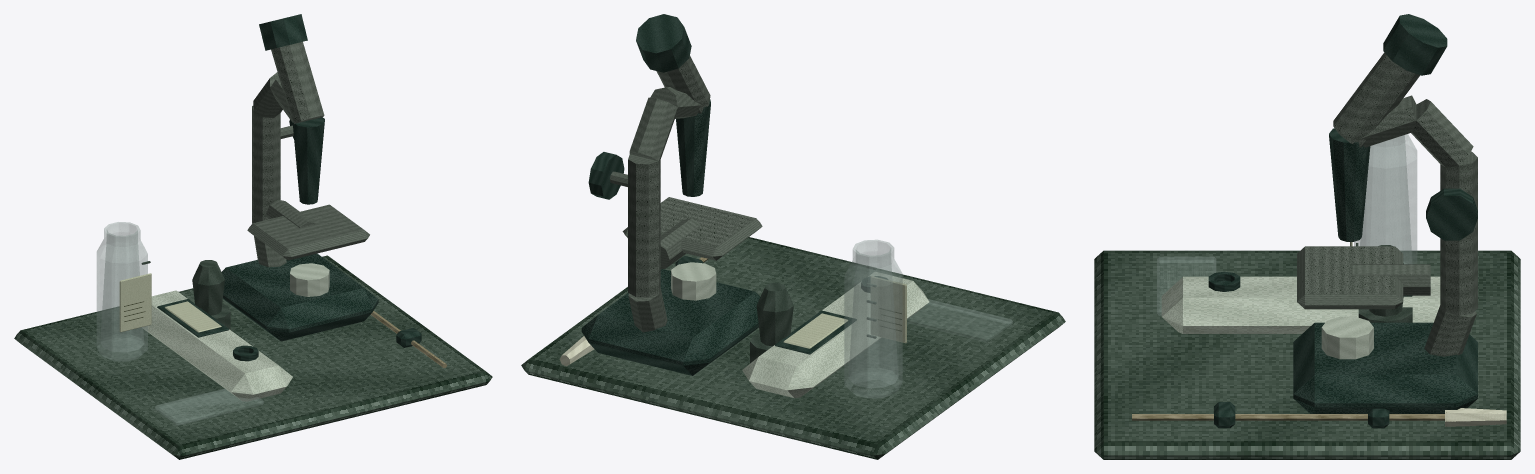
File: blender_ectoplasm_sampler_3_open.glb
3 views of the same model, side by side, from view 1: azimuth 30°, elevation 25°; view 2: azimuth 150°, elevation 25°; view 3: azimuth 270°, elevation 25° (orthographic). The views are drawn at different scales.
Parts seen in each view (by area): view 1: blender_ectoplasm_sampler_3_open; view 2: blender_ectoplasm_sampler_3_open; view 3: blender_ectoplasm_sampler_3_open.
Boxes of the visible parts, x1,y1,x2,y2 form: blender_ectoplasm_sampler_3_open: [14, 14, 492, 459]; blender_ectoplasm_sampler_3_open: [521, 14, 1065, 459]; blender_ectoplasm_sampler_3_open: [1094, 14, 1520, 459].
Bounding box in the file's own units: 0.2 × 0.1814 × 0.18.
Materials: 11 (11 with a texture image).
